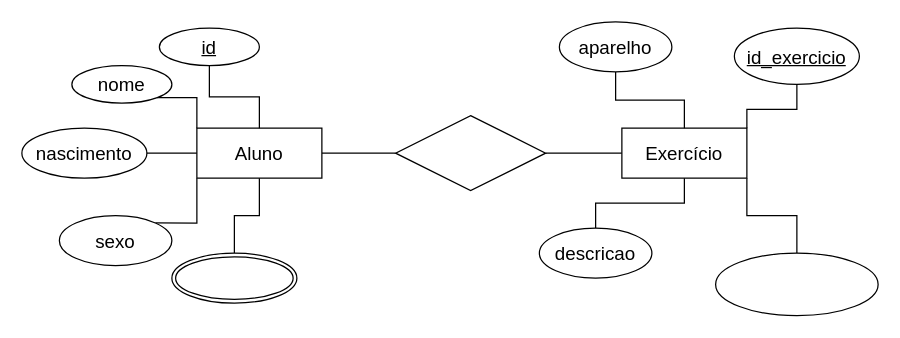
This 900x338 diagram has some shape labels left out. Here are the shapes that lost their labels. From the top down, the centre of each, then its label:
At (470,152): "ficha".
At (234,277): "telefones".
At (796,284): "grupo_muscular".
